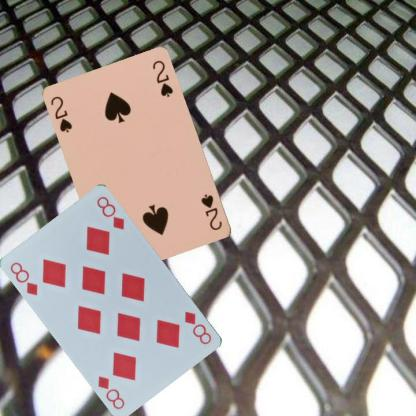2s: (198, 192, 224, 232), (48, 94, 74, 134)
8d: (7, 259, 40, 297), (182, 309, 213, 346)
